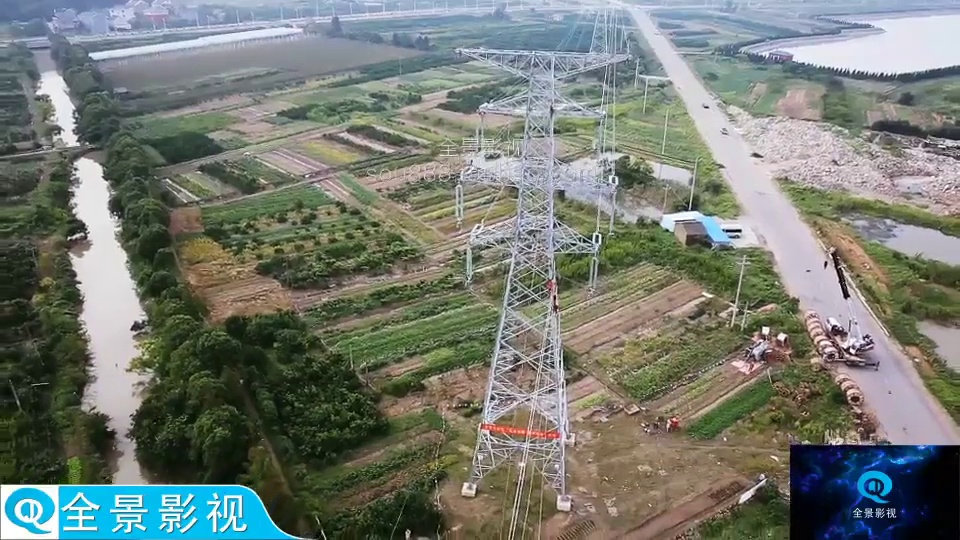tower_body: (432, 33, 647, 519)
tower_foot: (458, 395, 588, 513)
tower_head: (456, 40, 635, 122)
